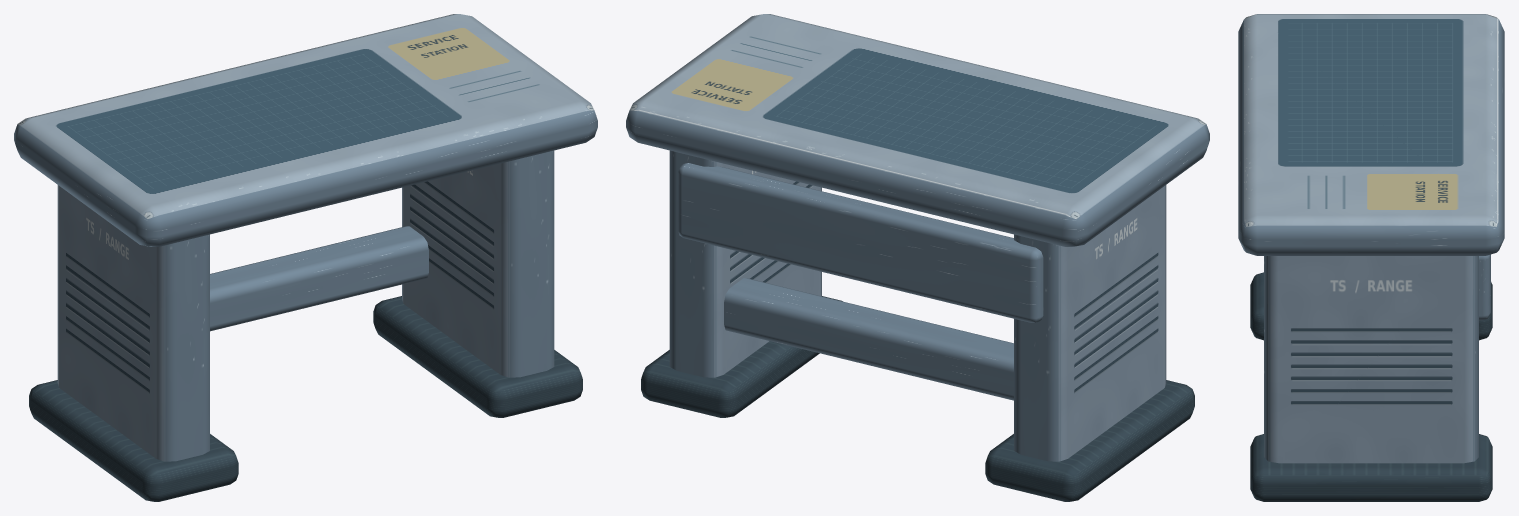
File: SM_FiringBench.glb
3 renders of one model, left to right at view 1: azimuth 30°, elevation 25°; view 2: azimuth 150°, elevation 25°; view 3: azimuth 270°, elevation 25°, orthographic. The views are drawn at different scales.
Parts seen in each view (by area): view 1: SM_FiringBench; view 2: SM_FiringBench; view 3: SM_FiringBench.
Boxes of the visible parts, left/top/right/bottom form: SM_FiringBench: left=14, top=14, right=597, bottom=501; SM_FiringBench: left=626, top=14, right=1209, bottom=501; SM_FiringBench: left=1238, top=14, right=1504, bottom=501.
Size of the model in its own units: 1.5 by 0.935 by 0.78.
Materials: 1 (1 with a texture image).
